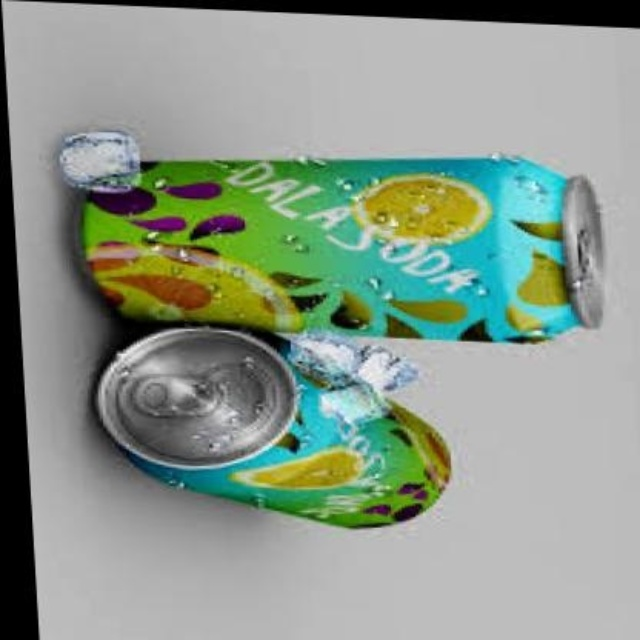trash: (60, 131, 575, 340), (95, 328, 449, 526)
